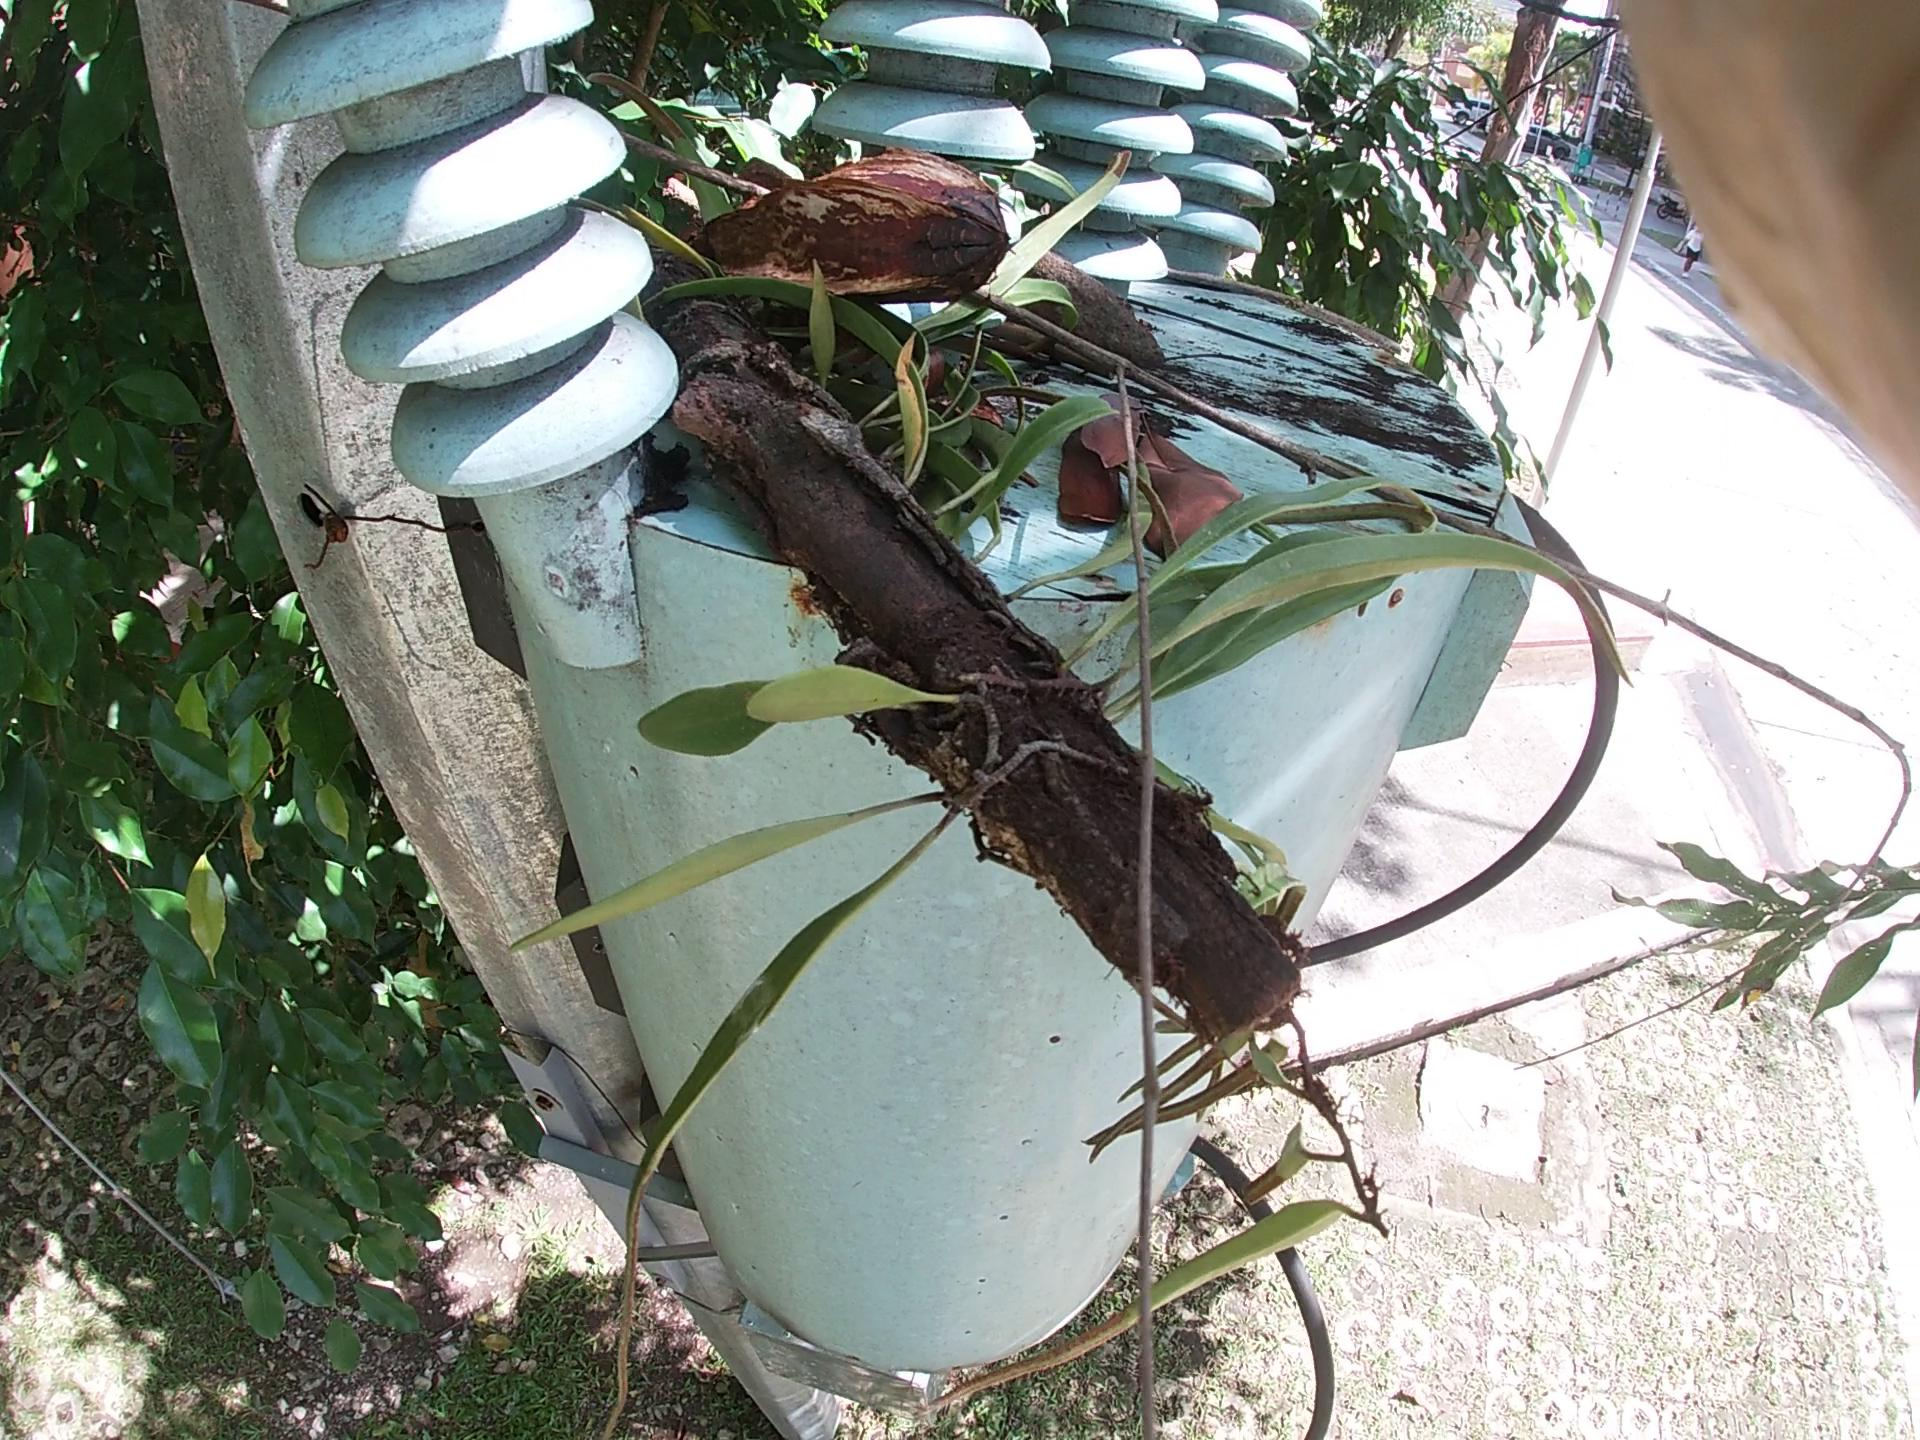branch with leaves: (679, 86, 1361, 1071)
leaf: (1052, 352, 1352, 622)
mahogany fruit: (650, 116, 1005, 405), (993, 209, 1262, 449)
tree branch: (624, 166, 1559, 597), (1095, 175, 1658, 389)
